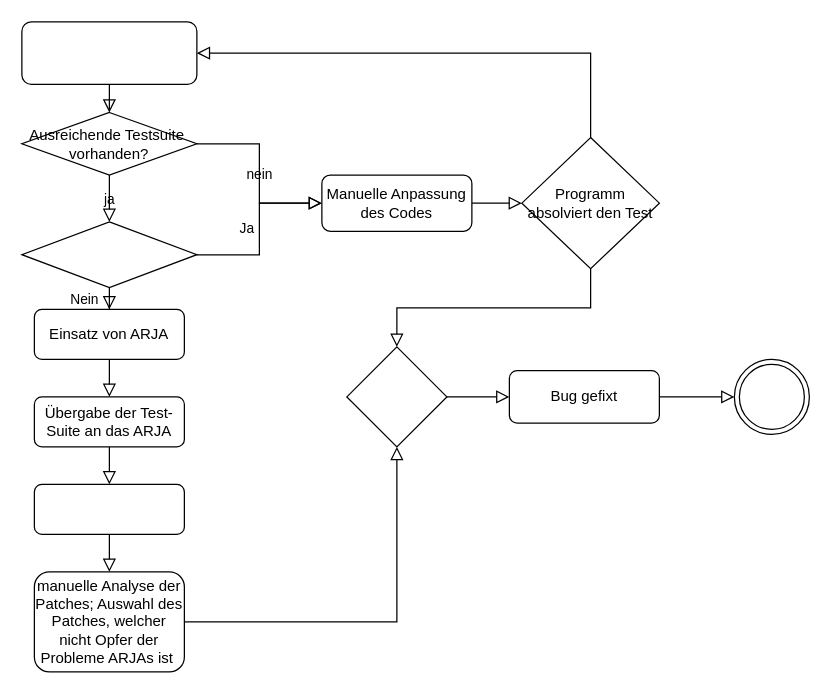
Image size: 831x694. Some labels were removed from this diagram. Each missing label, with the box of its shape:
Bug manuell fixen?: (21, 221, 197, 288)
Ein Test im Programm funktioniert nicht: (21, 21, 197, 84)
Output von ARJA: verschieden Patches für das Prpgramm: (33, 483, 184, 534)
